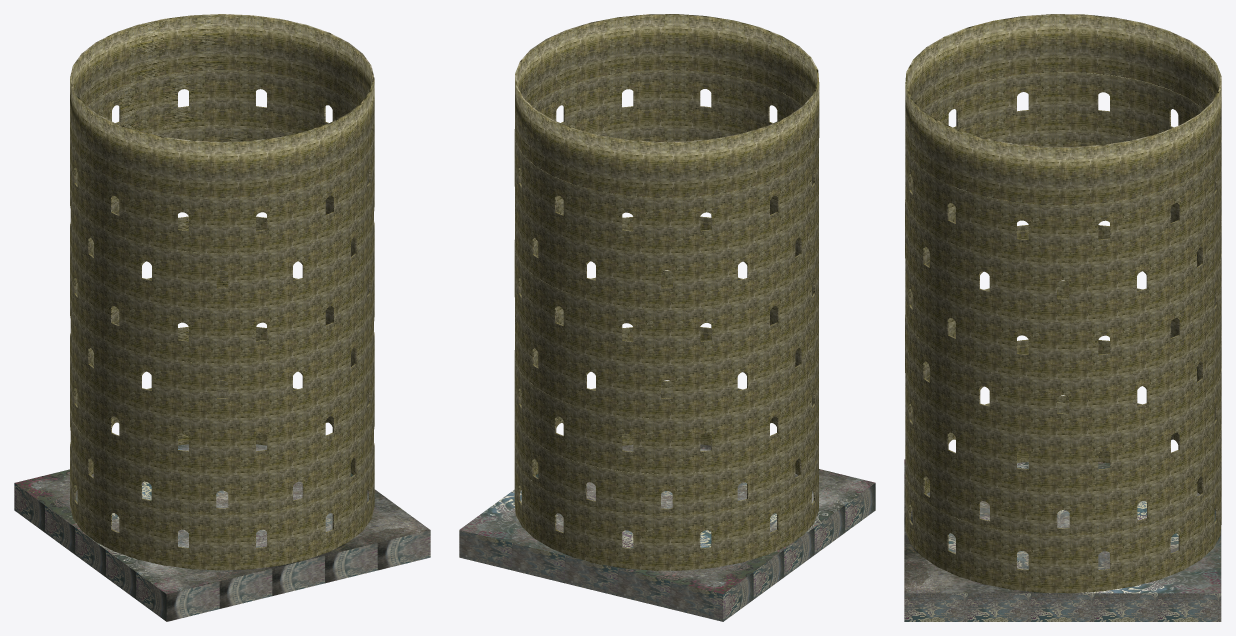
File: Stage.gltf
3 views of the same model, side by side, from view 1: azimuth 30°, elevation 25°; view 2: azimuth 150°, elevation 25°; view 3: azimuth 270°, elevation 25° (orthographic). The views are drawn at different scales.
Parts seen in each view (by area): view 1: 円柱.007, 円柱.002, 円柱.006, 円柱.008, 円柱.005, 円柱.003, 円柱.004, 円柱.001, 立方体.024, 立方体.014, 立方体.022, 立方体.005 (+5 smaller); view 2: 円柱.007, 円柱.002, 円柱.006, 円柱.005, 円柱.003, 円柱.008, 円柱.004, 円柱.001, 立方体.022, 立方体.012, 立方体.024, 立方体.007 (+5 smaller); view 3: 円柱.007, 円柱.002, 円柱.006, 円柱.005, 円柱.003, 円柱.008, 円柱.004, 円柱.001, 立方体.014, 立方体.012, 立方体.013, 立方体.010 (+3 smaller).
Boxes of the visible parts, left/top/right/bottom form: 円柱.007: left=70, top=14, right=374, bottom=197; 円柱.002: left=70, top=70, right=374, bottom=253; 円柱.006: left=70, top=125, right=374, bottom=308; 円柱.008: left=70, top=387, right=374, bottom=570; 円柱.005: left=70, top=308, right=374, bottom=473; 円柱.003: left=70, top=198, right=374, bottom=363; 円柱.004: left=70, top=261, right=374, bottom=418; 円柱.001: left=70, top=371, right=374, bottom=515; 立方体.024: left=136, top=565, right=219, bottom=621; 立方体.014: left=362, top=508, right=430, bottom=570; 立方体.022: left=14, top=470, right=77, bottom=532; 立方体.005: left=323, top=524, right=377, bottom=583; 円柱.007: left=515, top=14, right=819, bottom=197; 円柱.002: left=514, top=70, right=818, bottom=253; 円柱.006: left=515, top=125, right=818, bottom=308; 円柱.005: left=514, top=309, right=818, bottom=473; 円柱.003: left=514, top=198, right=818, bottom=363; 円柱.008: left=514, top=387, right=818, bottom=570; 円柱.004: left=515, top=261, right=818, bottom=418; 円柱.001: left=514, top=371, right=818, bottom=515; 立方体.022: left=670, top=565, right=753, bottom=621; 立方体.012: left=459, top=507, right=526, bottom=570; 立方体.024: left=812, top=470, right=875, bottom=532; 立方体.007: left=512, top=524, right=565, bottom=583; 円柱.007: left=905, top=14, right=1221, bottom=205; 円柱.002: left=905, top=72, right=1221, bottom=262; 円柱.006: left=905, top=130, right=1221, bottom=320; 円柱.005: left=905, top=321, right=1221, bottom=492; 円柱.003: left=905, top=206, right=1221, bottom=377; 円柱.008: left=905, top=402, right=1221, bottom=593; 円柱.004: left=905, top=271, right=1221, bottom=434; 円柱.001: left=905, top=386, right=1221, bottom=535; 立方体.014: left=904, top=566, right=967, bottom=621; 立方体.012: left=1158, top=566, right=1221, bottom=621; 立方体.013: left=967, top=566, right=1030, bottom=621; 立方体.010: left=1094, top=566, right=1157, bottom=621.
Size of the model in its own units: 20 by 33 by 20.03.
Materials: 33 (33 with a texture image).
